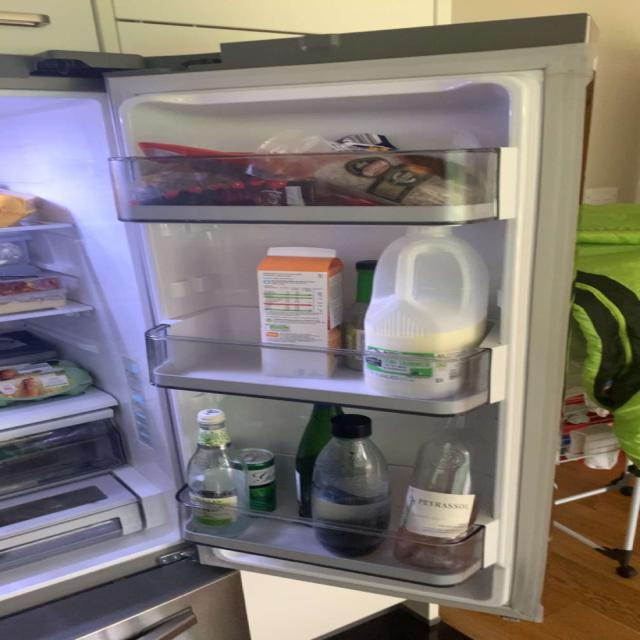Huevos: (0, 359, 96, 398), (0, 187, 41, 227)
Leche: (370, 225, 484, 396)
